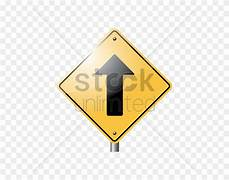forward: (55, 26, 173, 144)
